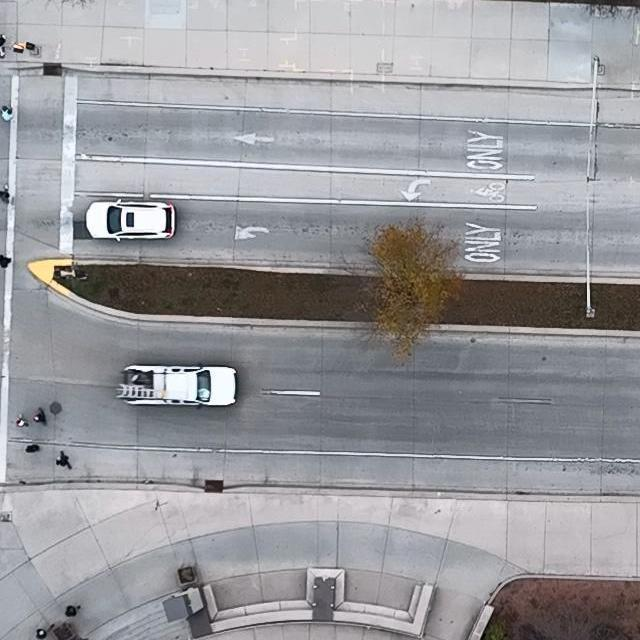car: (116, 363, 238, 409), (84, 198, 178, 242)
